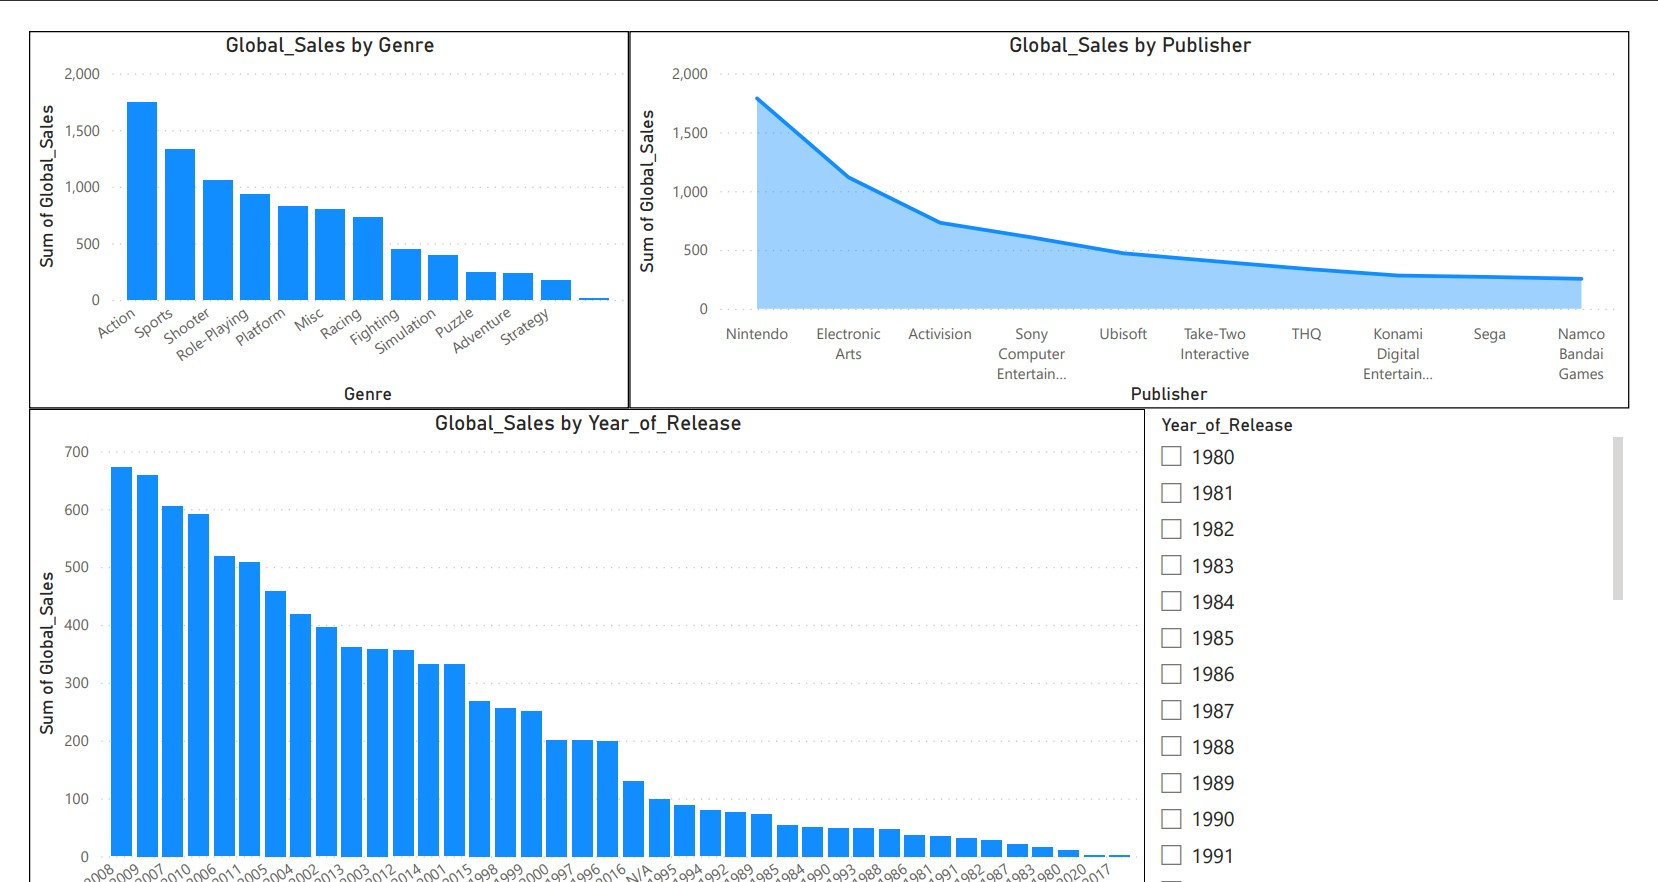

What the dashboard file says about the page in this screenshot:
{"tool":"powerbi","page":{"name":"Page 1","canvas":[1280,720],"ordinal":0},"visuals":[{"type":"columnChart","title":"Global_Sales by Genre","fields":{"Y":["Sum(Video_Games.Global_Sales)"],"Category":["Video_Games.Genre"]},"box":[0,0,480.3,301.9],"z":0},{"type":"columnChart","title":"Global_Sales by Year_of_Release","fields":{"Category":["Video_Games.Year_of_Release"],"Y":["Sum(Video_Games.Global_Sales)"]},"box":[0,301.9,893.3,418.5],"z":1000},{"type":"slicer","fields":{"Values":["Video_Games.Year_of_Release"]},"box":[893.1,302.2,387.2,418.2],"z":1001},{"type":"areaChart","title":"Global_Sales by Publisher","fields":{"Category":["Video_Games.Publisher"],"Y":["Sum(Video_Games.Global_Sales)"]},"box":[480.3,0,800,302.2],"z":1002}]}

Visuals, with their boxes on the page's 1280x720 design canvas (x1, y1, x2, y2). These are canvas units, not pixel positions in the 1658x882 screenshot, which may show the page scaled, cropped or inside an application window:
"Global_Sales by Genre" columnChart: select_region(0, 0, 480, 302)
"Global_Sales by Year_of_Release" columnChart: select_region(0, 302, 893, 720)
slicer - Video_Games.Year_of_Release: select_region(893, 302, 1280, 720)
"Global_Sales by Publisher" areaChart: select_region(480, 0, 1280, 302)
